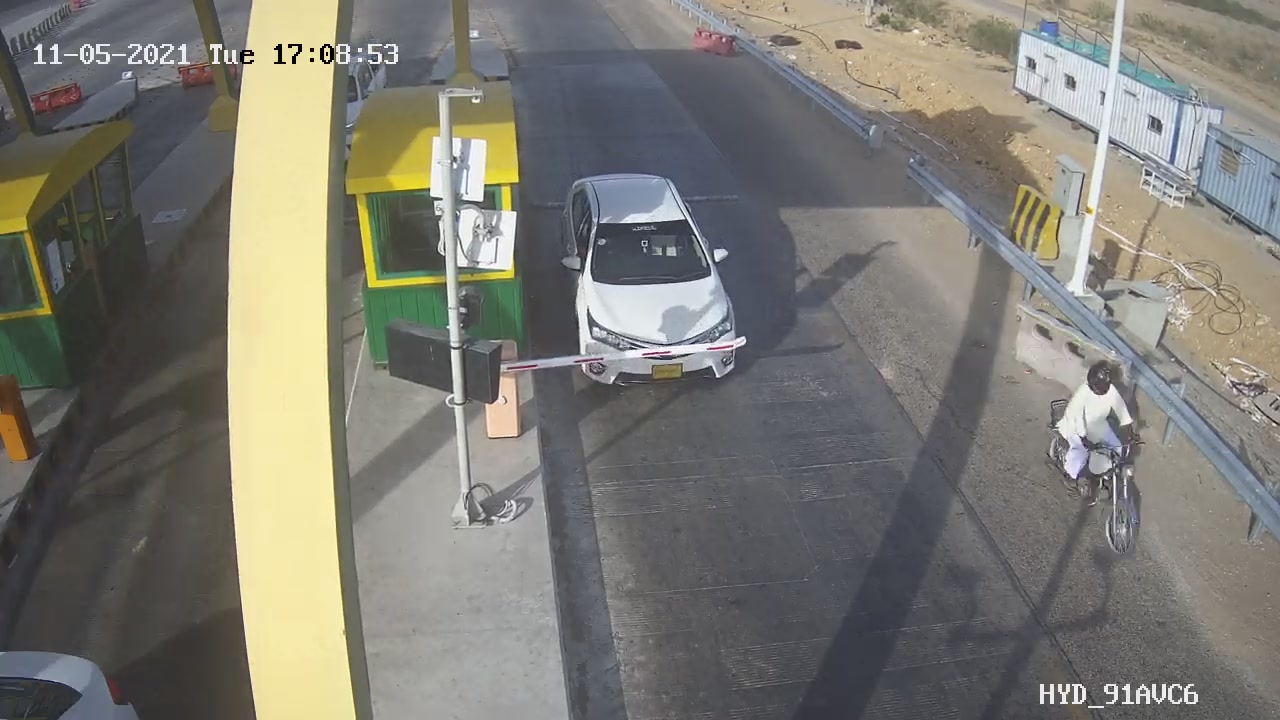F1: (540, 157, 764, 404)
